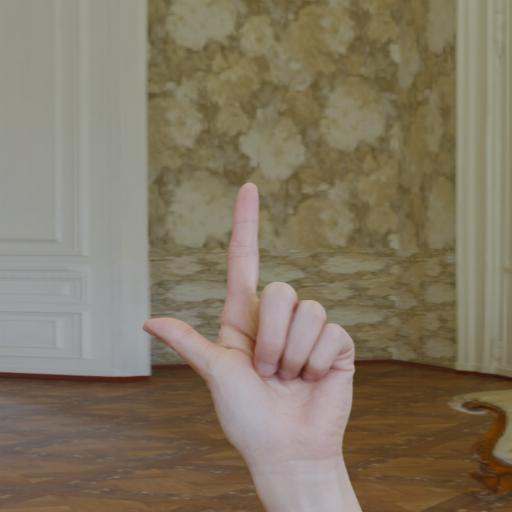L: (134, 163, 374, 457)
